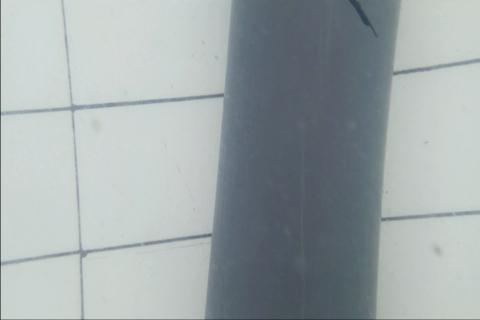keretakan: (348, 0, 378, 41)
